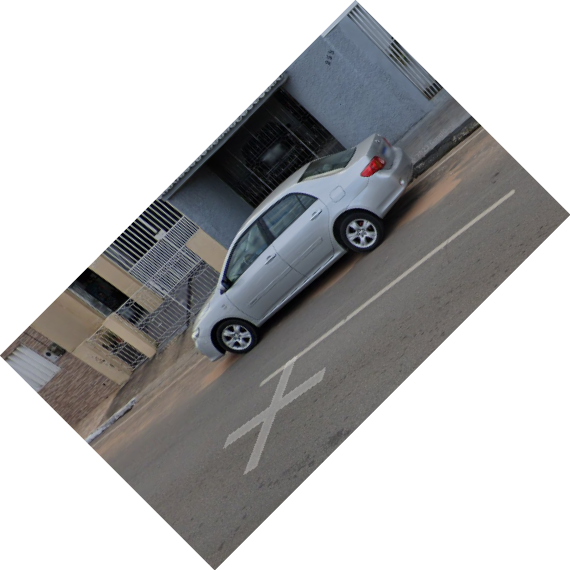car: (182, 131, 443, 368)
